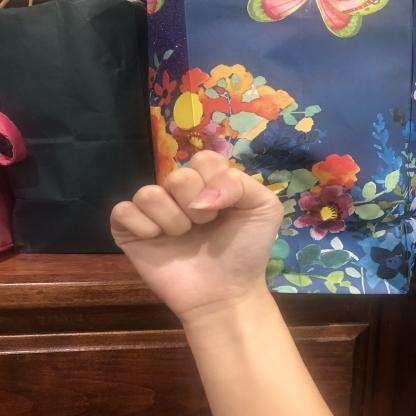fist: (105, 145, 288, 321)
